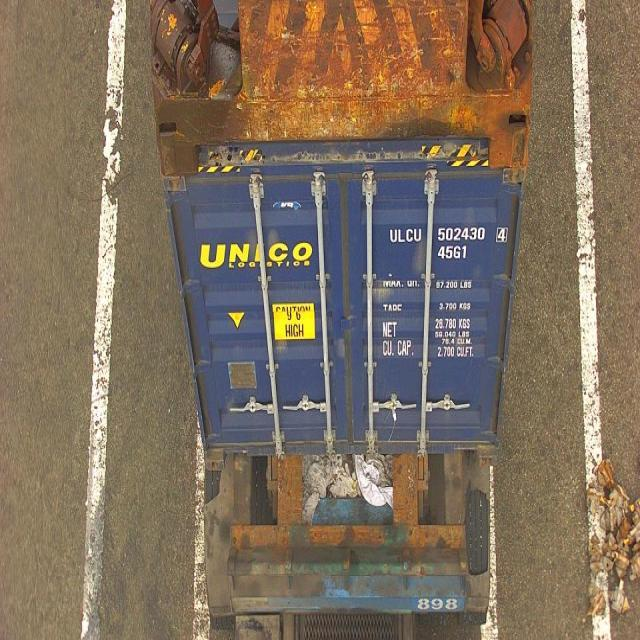ISO: (437, 244, 467, 260)
container_number: (388, 224, 509, 248)
